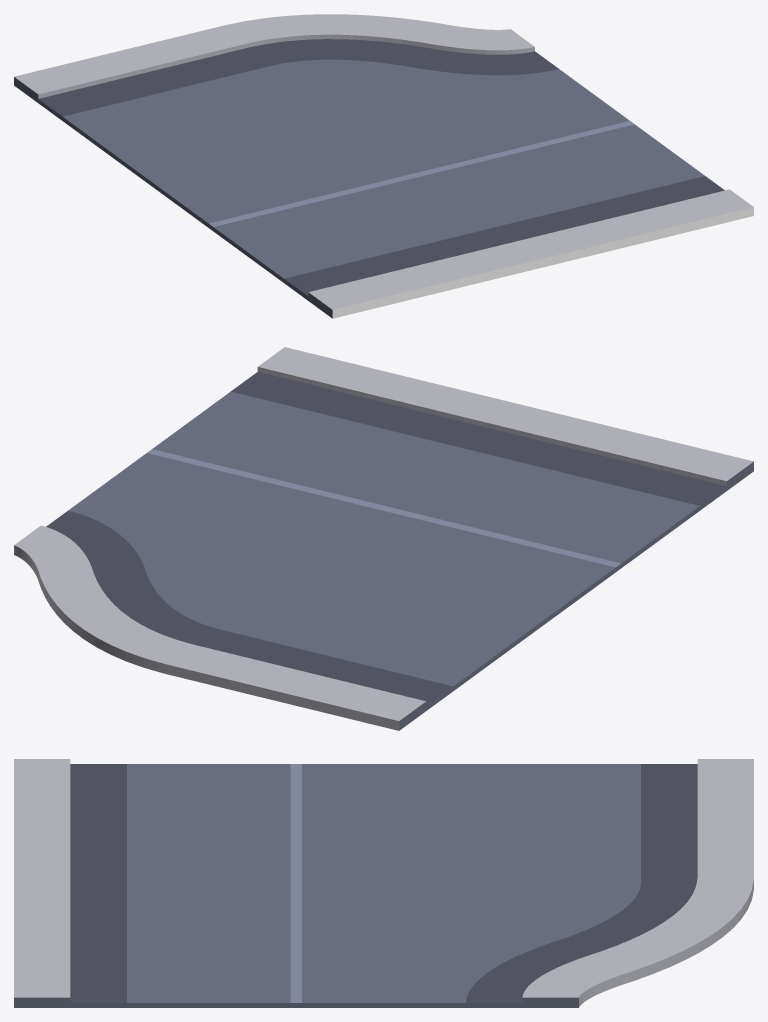
Rendered from road_sideEntry.fbx.
3 views of the same model, one above another, from view 1: azimuth 30°, elevation 25°; view 2: azimuth 150°, elevation 25°; view 3: azimuth 270°, elevation 25° (orthographic). The views are drawn at different scales.
Visible parts, largest first — view 1: road_sideEntry; view 2: road_sideEntry; view 3: road_sideEntry.
Part boxes in pixels (<box>): road_sideEntry: <box>14,14,753,318</box>; road_sideEntry: <box>14,347,753,730</box>; road_sideEntry: <box>14,759,753,1007</box>.
Bounding box in the file's own units: 10 × 0.2 × 13.1.
